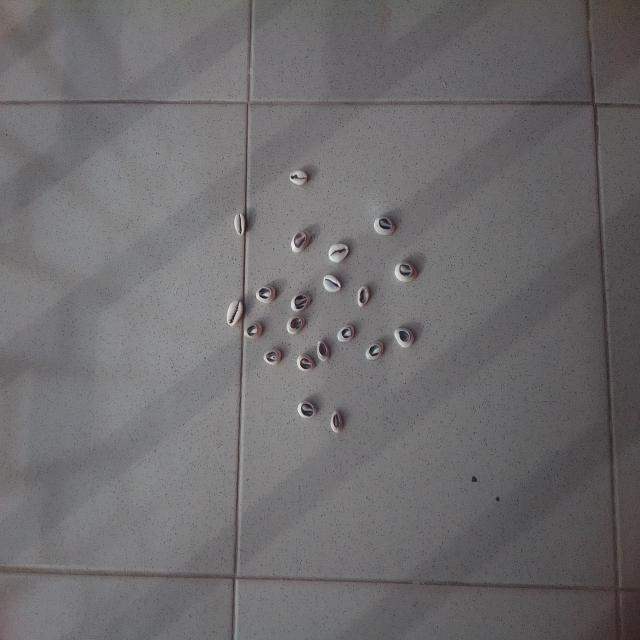facedown: (391, 324, 416, 351), (392, 260, 418, 284), (290, 228, 312, 256), (372, 215, 397, 238), (363, 338, 386, 363), (296, 396, 317, 422), (285, 314, 308, 337), (255, 282, 275, 306), (336, 322, 356, 346), (291, 293, 314, 312), (262, 347, 282, 368), (297, 352, 315, 375), (330, 409, 345, 436), (356, 282, 371, 308), (245, 320, 262, 342), (316, 338, 330, 364)
faceup: (320, 270, 343, 296), (226, 297, 244, 330), (328, 241, 351, 263), (289, 168, 309, 191), (232, 210, 246, 237)
